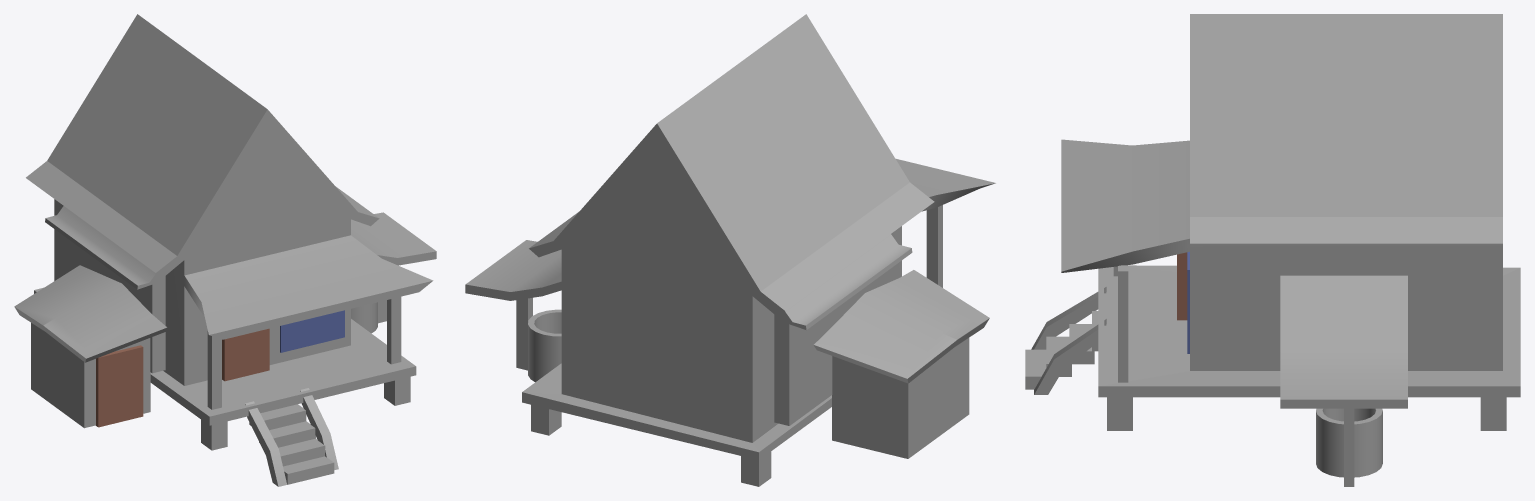
File: fbx_house_v3.fbx
3 views of the same model, side by side, from view 1: azimuth 30°, elevation 25°; view 2: azimuth 150°, elevation 25°; view 3: azimuth 270°, elevation 25° (orthographic). The views are drawn at different scales.
Parts seen in each view (by area): view 1: pCube22; view 2: pCube22; view 3: pCube22.
Boxes of the visible parts, bbox=[...] form: pCube22: bbox=[14, 14, 436, 486]; pCube22: bbox=[465, 14, 995, 486]; pCube22: bbox=[1025, 14, 1520, 486].
Size of the model in its own units: 9.9 by 7.72 by 9.19.
